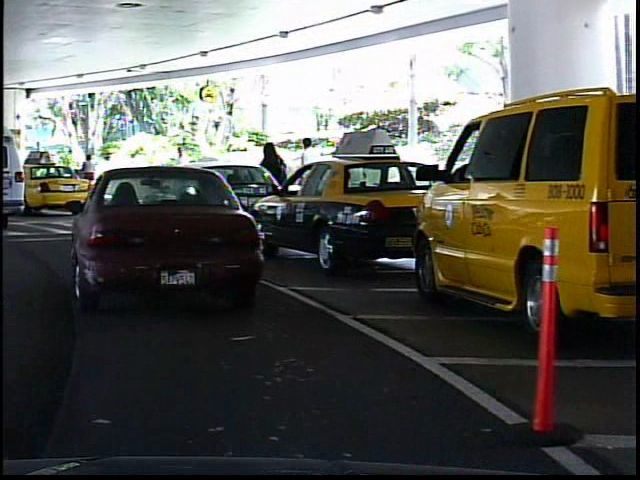person: (255, 136, 291, 222), (293, 132, 324, 213), (168, 141, 193, 204), (75, 149, 98, 196)
